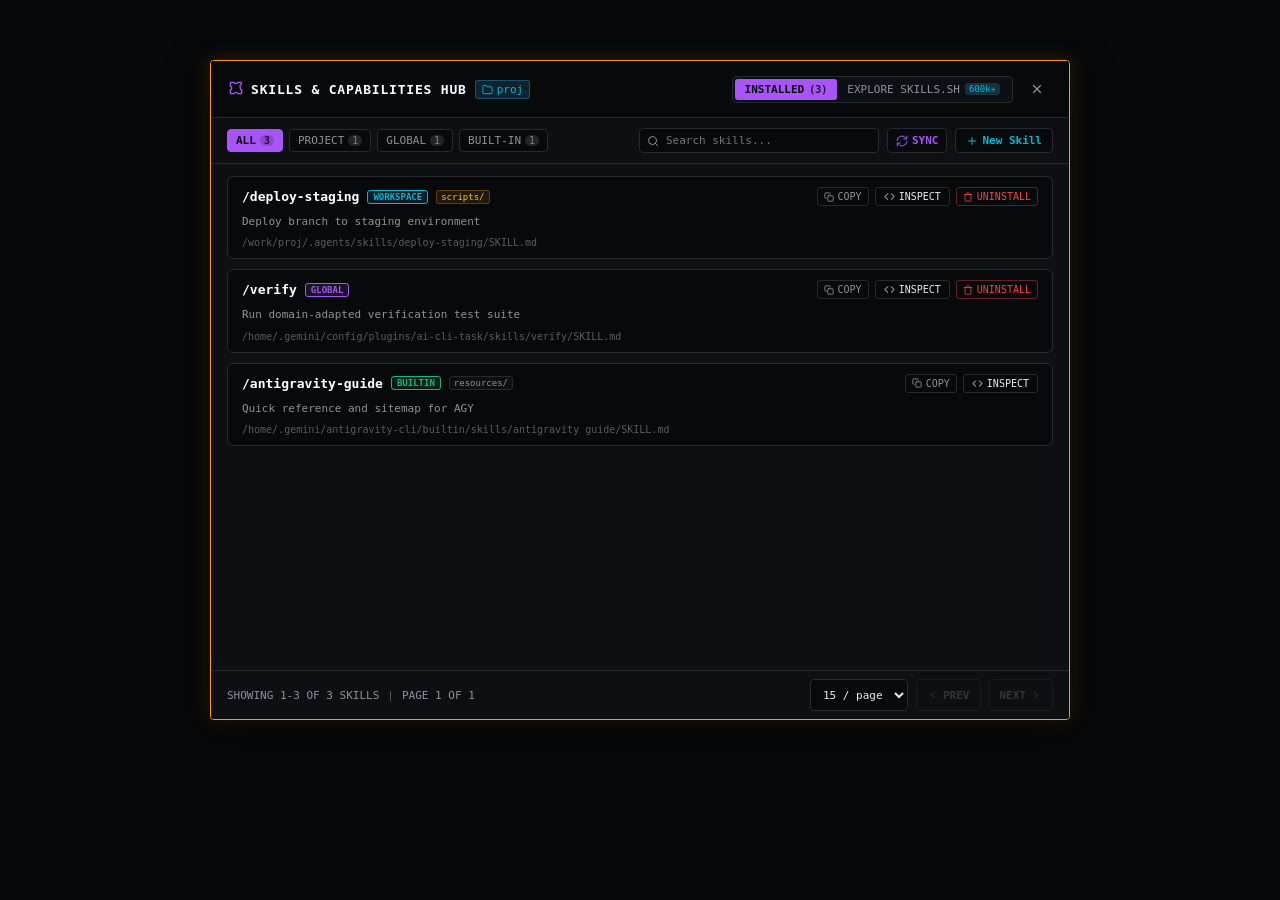
SkillsManagementModal › inspects skill content and opens markdown drawer
The width and height of the screenshot is (1280, 900).
Expected: the text "/deploy-staging" is shown, [242,189,359,204]
Click the button "INSPECT" in the row of "scripts/" at (912, 196), box [875,187,950,206]
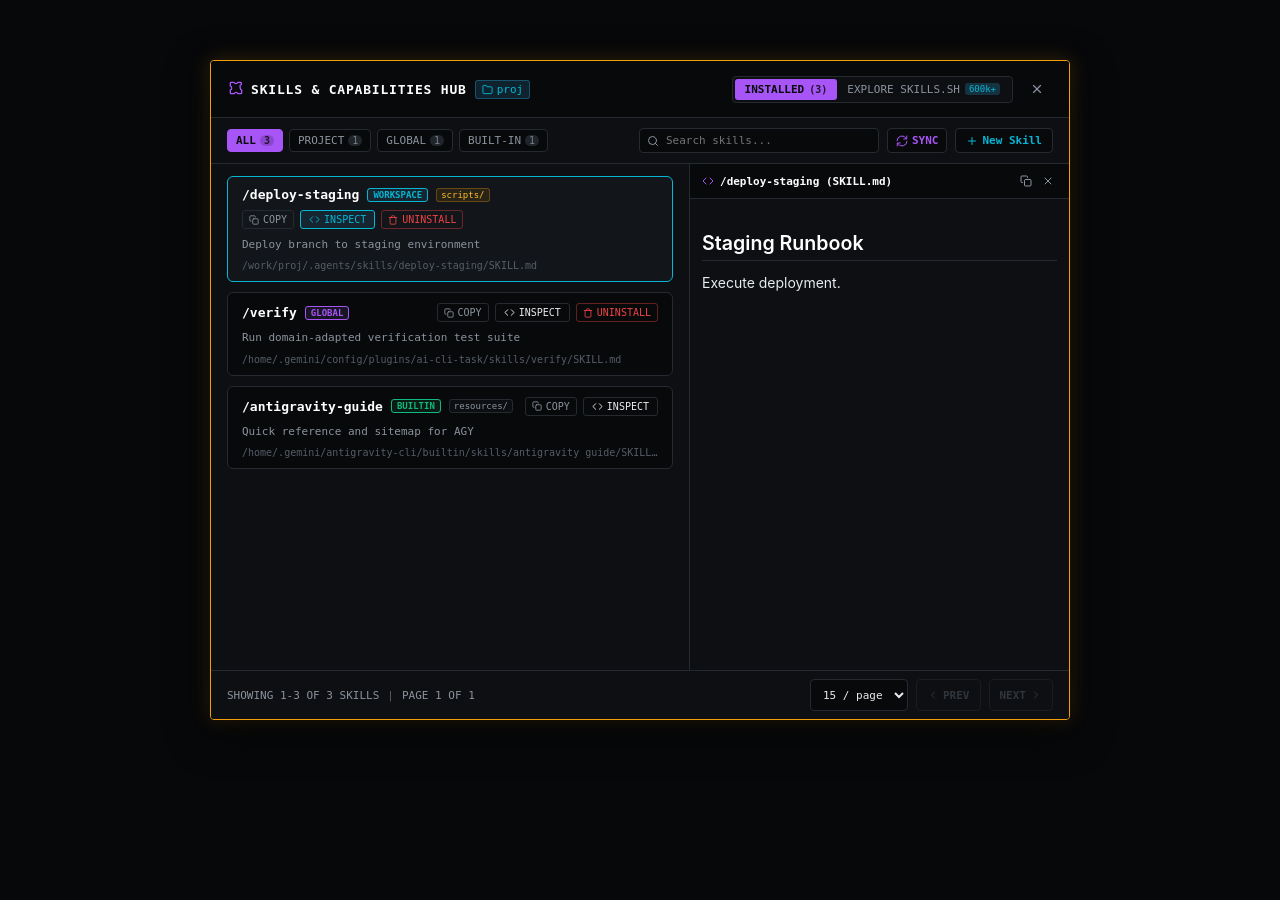
Expected: the heading "Staging Runbook" is shown, [702,231,1057,261]
